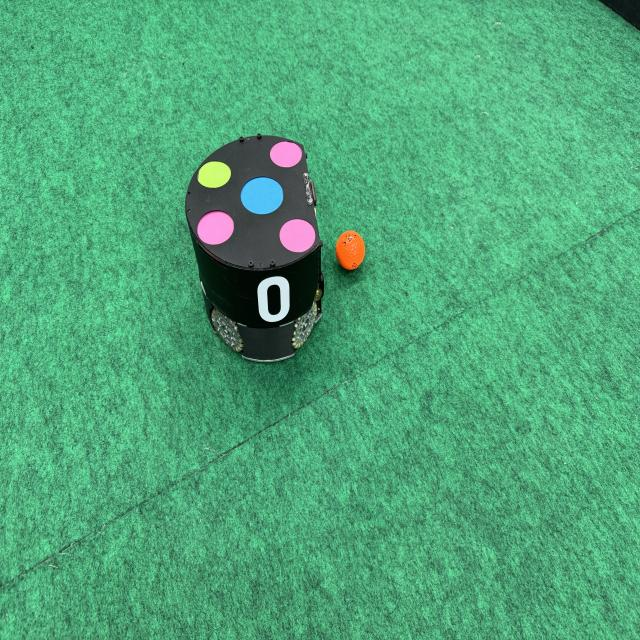ball: (334, 226, 368, 274)
